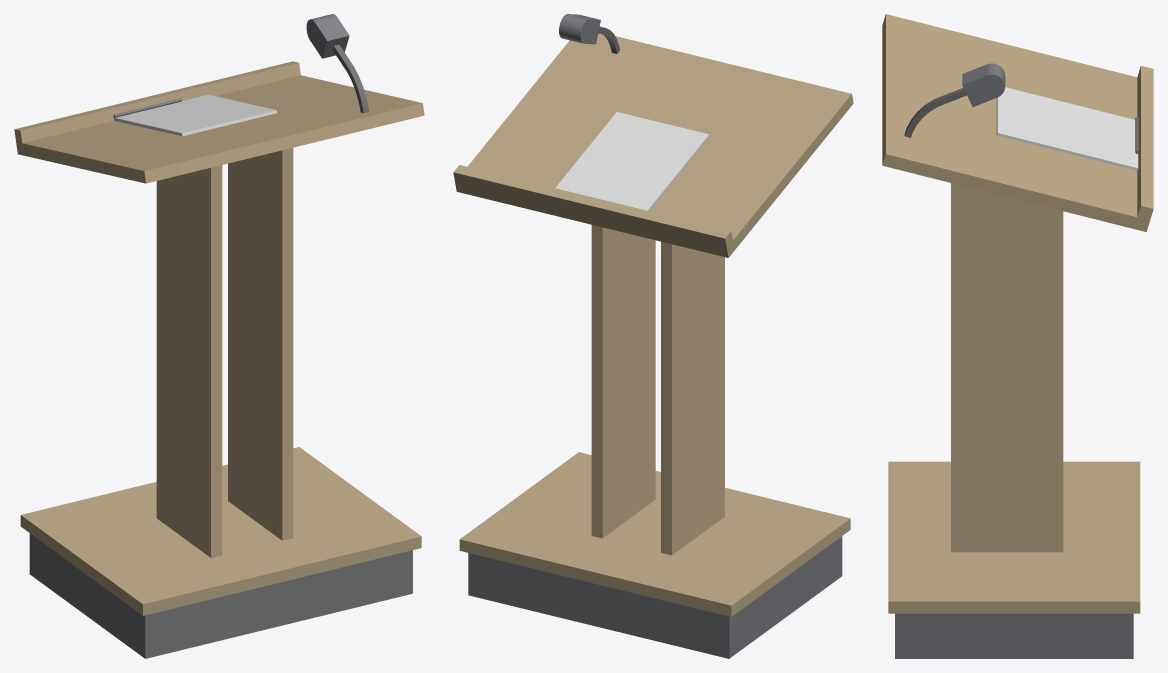
Rendered from lecturn.fbx.
3 views of the same model, side by side, from view 1: azimuth 30°, elevation 25°; view 2: azimuth 150°, elevation 25°; view 3: azimuth 270°, elevation 25° (orthographic). The views are drawn at different scales.
Parts seen in each view (by area): view 1: lecturn; view 2: lecturn; view 3: lecturn.
Boxes of the visible parts, x1,y1,x2,y2 form: lecturn: (14,14,424,658); lecturn: (453,14,853,658); lecturn: (882,14,1153,658).
Bounding box in the file's own units: 40.51 × 76.68 × 33.15.
